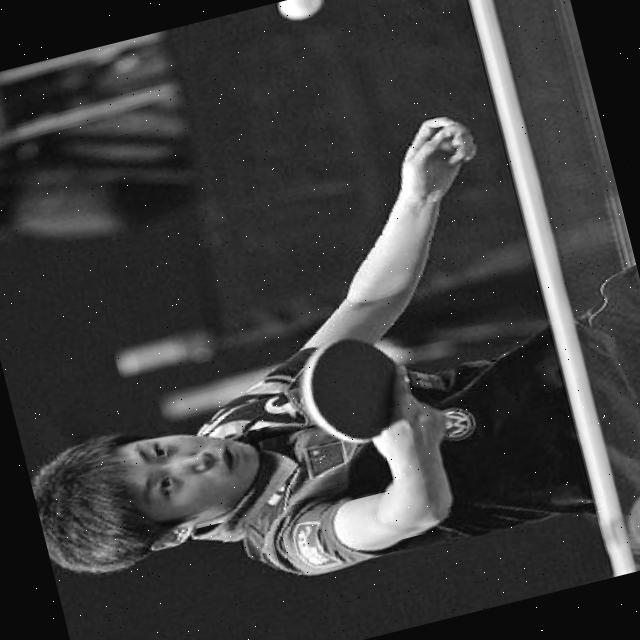ping-pong-ball: (275, 0, 326, 24)
